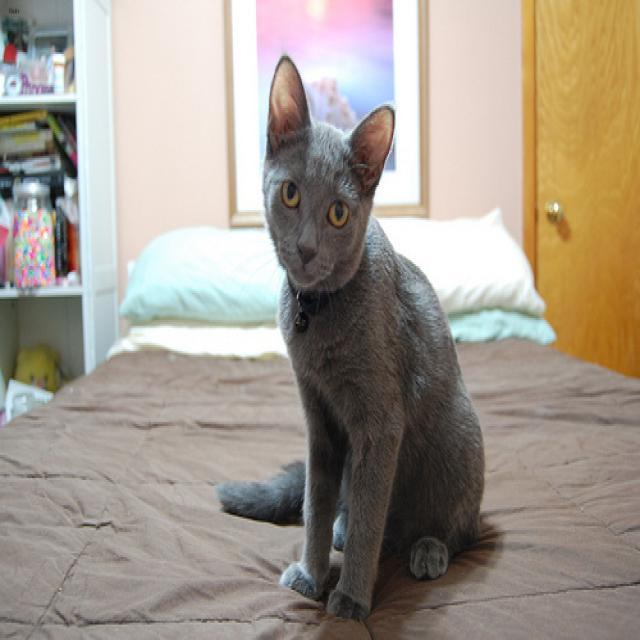Russian_Blue: (258, 50, 405, 304)
